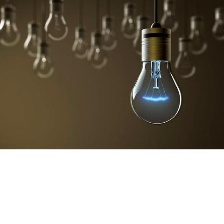light_bulb: (125, 19, 185, 127), (40, 0, 71, 43), (171, 40, 199, 79), (183, 19, 209, 58), (21, 17, 44, 61), (0, 3, 21, 47), (86, 32, 109, 72), (95, 17, 120, 53), (33, 41, 55, 81), (69, 23, 92, 61), (156, 2, 183, 34), (118, 4, 140, 41), (209, 6, 224, 48)
